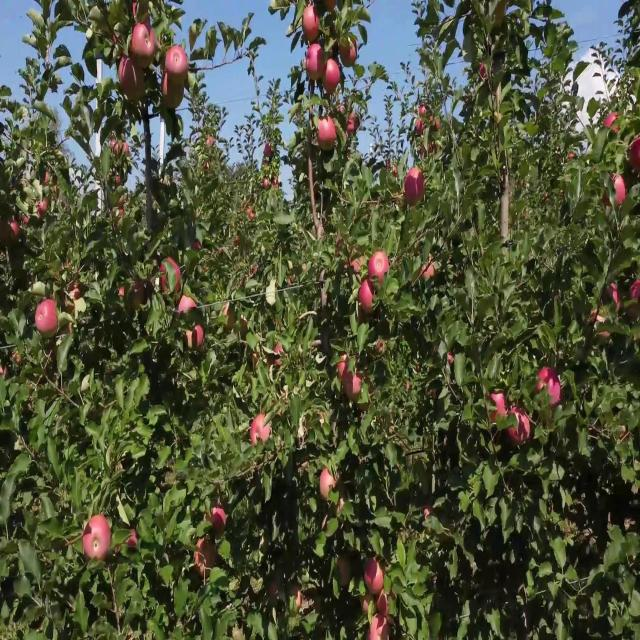apple: (84, 519, 112, 562), (120, 63, 147, 105), (536, 369, 563, 407), (340, 355, 363, 398), (132, 28, 156, 69), (36, 298, 59, 338), (164, 71, 186, 112), (196, 540, 219, 578), (128, 65, 148, 107), (508, 412, 532, 446), (404, 170, 426, 206), (340, 355, 362, 391), (308, 42, 325, 84), (160, 263, 181, 297), (488, 391, 508, 425), (252, 412, 272, 446), (120, 56, 136, 98), (168, 49, 189, 80), (208, 504, 228, 533), (608, 177, 628, 206), (592, 312, 612, 341), (304, 7, 320, 43), (368, 561, 384, 596), (320, 469, 338, 500), (320, 120, 337, 151), (340, 42, 358, 71), (372, 255, 389, 284), (324, 63, 340, 92), (4, 220, 20, 249), (252, 419, 268, 448), (68, 284, 83, 313), (344, 376, 363, 398), (340, 554, 352, 588), (360, 284, 375, 311), (132, 284, 147, 311), (44, 170, 59, 197), (372, 618, 389, 639), (604, 113, 620, 135), (272, 348, 288, 370), (608, 284, 621, 311), (4, 220, 16, 249), (348, 255, 364, 276), (224, 305, 236, 332), (340, 355, 353, 379), (180, 298, 197, 316), (68, 284, 83, 304), (36, 199, 49, 220), (348, 113, 360, 135), (292, 590, 304, 612), (128, 526, 139, 549), (192, 327, 204, 348), (632, 142, 640, 172), (12, 220, 20, 247), (132, 7, 147, 20), (424, 263, 436, 279), (296, 590, 304, 612), (268, 583, 279, 599), (424, 504, 435, 519), (20, 213, 31, 228), (432, 113, 440, 133), (428, 142, 439, 156), (336, 497, 344, 516), (364, 597, 371, 617), (480, 63, 488, 80), (64, 319, 73, 334), (112, 142, 120, 158), (633, 284, 640, 302), (448, 355, 456, 370), (416, 120, 424, 135), (240, 319, 248, 334), (252, 355, 260, 368), (428, 391, 439, 400), (192, 241, 201, 251), (4, 369, 9, 379), (324, 519, 328, 530)
